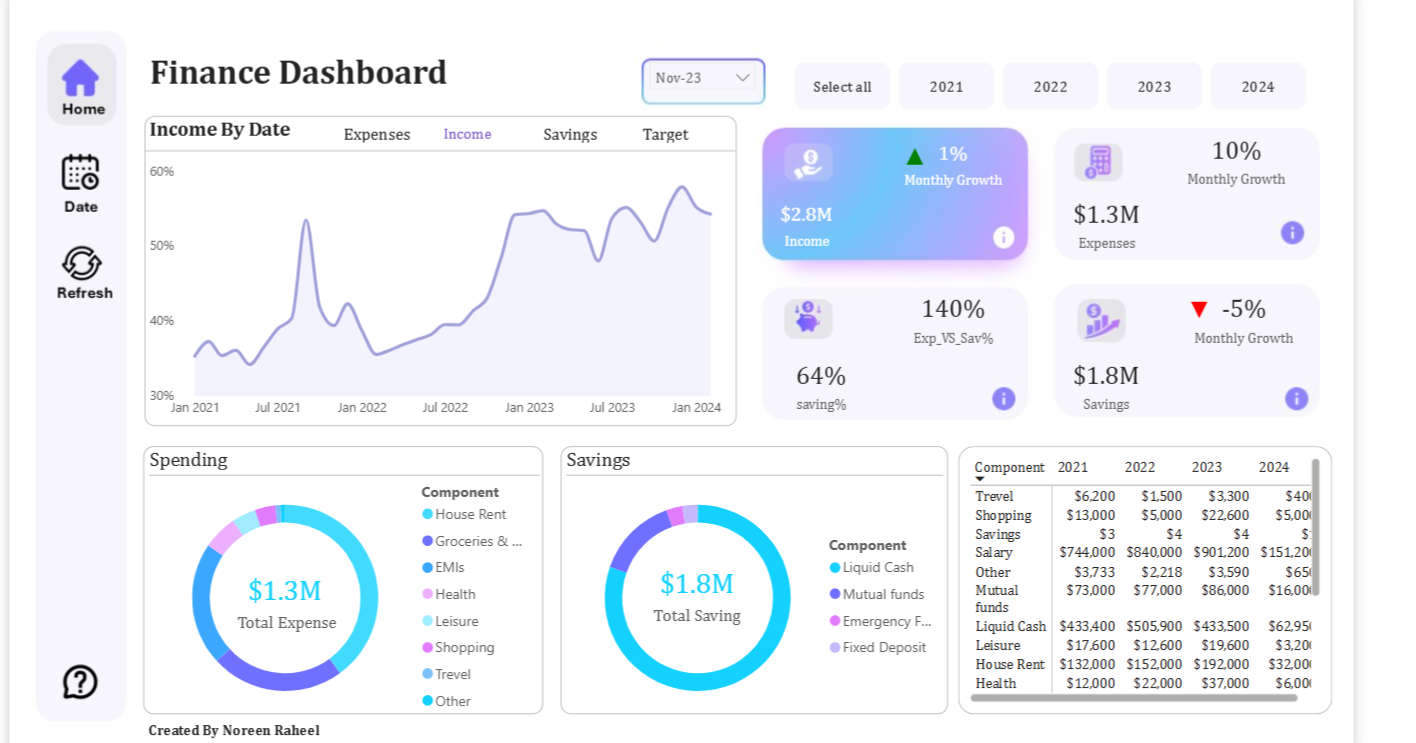

What the dashboard file says about the page in this screenshot:
{"tool":"powerbi","page":{"name":"Finance Dashboard","canvas":[1280,720],"ordinal":0},"visuals":[{"type":"card","fields":{"Values":["MeasureTable.Savings"]},"box":[994.1,334.5,101.6,71.9],"z":0},{"type":"card","fields":{"Values":["MeasureTable.Expenses"]},"box":[993.9,181.1,102.4,72.5],"z":1000},{"type":"actionButton","box":[18.2,143.8,50.6,74.9],"z":2000},{"type":"card","fields":{"Values":["MeasureTable.saving%"]},"box":[715.8,334.5,115.7,71.9],"z":3000},{"type":"advancedSlicerVisual","fields":{"Values":["DataSet.Year"]},"box":[743.4,59.9,499.3,55.1],"z":4000},{"type":"donutChart","title":"Savings ","fields":{"Category":["DataSet.Component"],"Y":["MeasureTable.Savings"]},"box":[524.5,430,368.6,255.2],"z":5000},{"type":"pivotTable","fields":{"Columns":["DataSet.Year"],"Rows":["DataSet.Type","DataSet.Component"],"Values":["MeasureTable.Total_Value"]},"box":[904.1,430,356,255.2],"z":6000},{"type":"donutChart","title":"Spending","fields":{"Category":["DataSet.Component"],"Y":["MeasureTable.Expenses"]},"box":[127.6,430,381.2,255.2],"z":7000},{"type":"lineChart","fields":{"Category":["DataSet.Date"],"Y":["MeasureTable.Line Chart Measures"]},"box":[128.2,115.7,564.2,295.4],"z":8000},{"type":"advancedSlicerVisual","fields":{"Values":["Line Selection Table.Type"]},"box":[300.1,104.7,392.3,54.7],"z":9000},{"type":"textbox","box":[128.2,50,342.3,57.8],"z":10000},{"type":"slicer","fields":{"Values":["Selected_Date.Month_yr"]},"box":[604.9,59.4,111,48.5],"z":11000},{"type":"card","fields":{"Values":["MeasureTable.Expense_MOM_Gr"]},"box":[1095.7,115.7,146.9,81.3],"z":12000},{"type":"card","fields":{"Values":["DataSet.Incom_MOM_Gr"]},"box":[831.5,123.5,136,71.9],"z":13000},{"type":"card","fields":{"Values":["MeasureTable.Saving_Monthly_Gr"]},"box":[1109.7,268.8,132.9,76.6],"z":14000},{"type":"card","fields":{"Values":["MeasureTable.Exp_VS_Sav"]},"box":[831.5,268.8,136,76.6],"z":15000},{"type":"card","fields":{"Values":["MeasureTable.Expenses"]},"box":[196.9,534,132.3,83.5],"z":16000},{"type":"card","fields":{"Values":["MeasureTable.Savings"]},"box":[595.4,522.9,119.7,94.5],"z":17000},{"type":"card","fields":{"Values":["MeasureTable.Income"]},"box":[715.8,181.3,87.5,73.5],"z":18000},{"type":"card","fields":{"Values":["MeasureTable.inc Growth Arrow"]},"box":[842.5,136,39.1,37.5],"z":19000},{"type":"card","fields":{"Values":["MeasureTable.Sav Growth Arrow"]},"box":[1109.7,281.3,46.9,39.1],"z":20000},{"type":"actionButton","box":[29.9,234.7,77.2,66.2],"z":22000},{"type":"actionButton","box":[68.9,143.8,38.5,74.9],"z":23000},{"type":"textbox","box":[127.6,685.2,272.5,34.7],"z":24000}]}

Visuals, with their boxes on the page's 1280x720 design canvas (x1, y1, x2, y2). These are canvas units, not pixel positions in the 1416x743 screenshot, which may show the page scaled, cropped or inside an application window:
card - MeasureTable.Savings: <bbox>994, 334, 1096, 406</bbox>
card - MeasureTable.Expenses: <bbox>994, 181, 1096, 254</bbox>
actionButton: <bbox>18, 144, 69, 219</bbox>
card - MeasureTable.saving%: <bbox>716, 334, 832, 406</bbox>
advancedSlicerVisual - DataSet.Year: <bbox>743, 60, 1243, 115</bbox>
"Savings " donutChart: <bbox>524, 430, 893, 685</bbox>
pivotTable - DataSet.Year x DataSet.Type: <bbox>904, 430, 1260, 685</bbox>
"Spending" donutChart: <bbox>128, 430, 509, 685</bbox>
lineChart - DataSet.Date x MeasureTable.Line Chart Measures: <bbox>128, 116, 692, 411</bbox>
advancedSlicerVisual - Line Selection Table.Type: <bbox>300, 105, 692, 159</bbox>
textbox: <bbox>128, 50, 470, 108</bbox>
slicer - Selected_Date.Month_yr: <bbox>605, 59, 716, 108</bbox>
card - MeasureTable.Expense_MOM_Gr: <bbox>1096, 116, 1243, 197</bbox>
card - DataSet.Incom_MOM_Gr: <bbox>832, 124, 968, 195</bbox>
card - MeasureTable.Saving_Monthly_Gr: <bbox>1110, 269, 1243, 345</bbox>
card - MeasureTable.Exp_VS_Sav: <bbox>832, 269, 968, 345</bbox>
card - MeasureTable.Expenses: <bbox>197, 534, 329, 618</bbox>
card - MeasureTable.Savings: <bbox>595, 523, 715, 617</bbox>
card - MeasureTable.Income: <bbox>716, 181, 803, 255</bbox>
card - MeasureTable.inc Growth Arrow: <bbox>842, 136, 882, 174</bbox>
card - MeasureTable.Sav Growth Arrow: <bbox>1110, 281, 1157, 320</bbox>
actionButton: <bbox>30, 235, 107, 301</bbox>
actionButton: <bbox>69, 144, 107, 219</bbox>
textbox: <bbox>128, 685, 400, 720</bbox>
